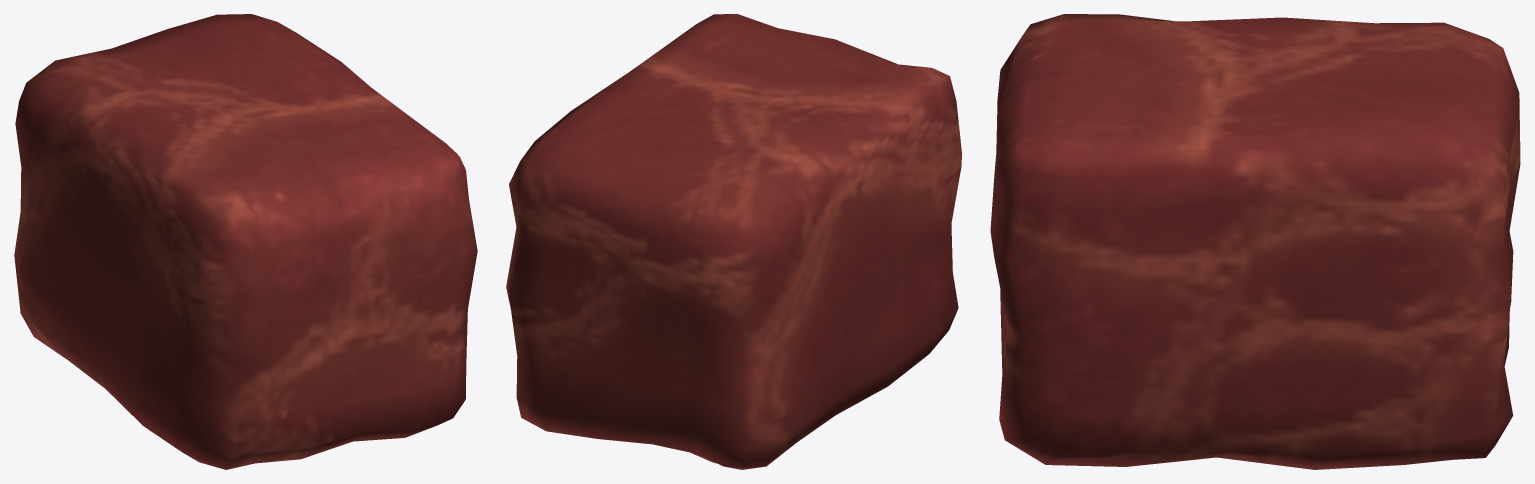
The model's file is tile8.fbx.
The picture shows the model from 3 angles, left to right: view 1: azimuth 30°, elevation 25°; view 2: azimuth 150°, elevation 25°; view 3: azimuth 270°, elevation 25°; orthographic projection. The views are drawn at different scales.
Visible parts, largest first — view 1: MINIPLATAFORMABAIXO1; view 2: MINIPLATAFORMABAIXO1; view 3: MINIPLATAFORMABAIXO1.
Boxes of the visible parts, left/top/right/bottom form: MINIPLATAFORMABAIXO1: left=14, top=14, right=477, bottom=469; MINIPLATAFORMABAIXO1: left=506, top=14, right=961, bottom=469; MINIPLATAFORMABAIXO1: left=990, top=14, right=1520, bottom=469.
Bounding box in the file's own units: 227 × 227 × 322.
